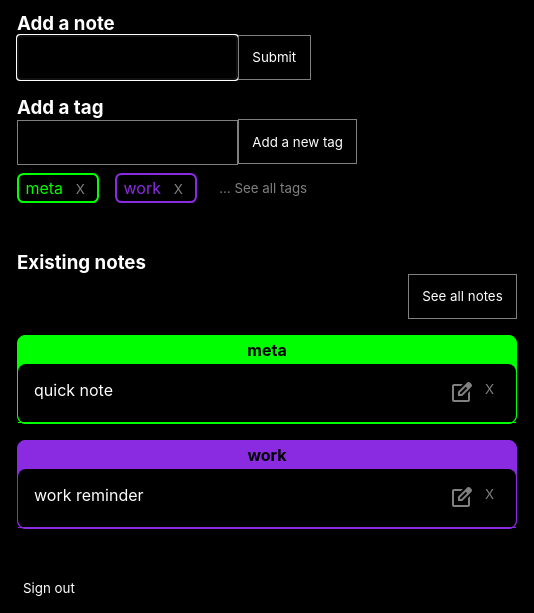
Scenario: App › happy notes! › deletes a note after cancel period
Expected: the text "quick note" is shown, [34,380,113,406]
Click the button with test id "note-1-delete". click: (489, 389)
box: [479,380,500,398]
Wait 3900 ms
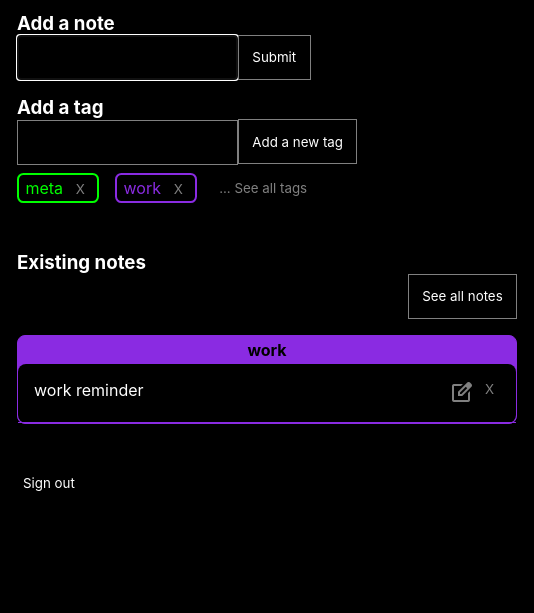
Now the text "quick note" is gone
